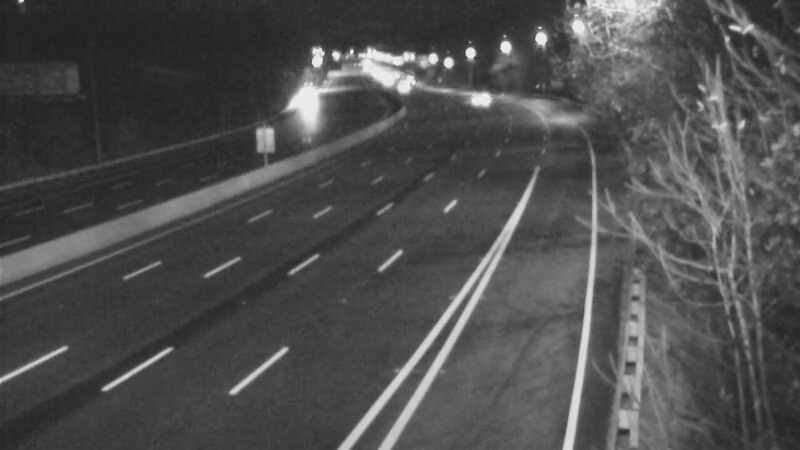vehicle: (454, 72, 504, 122)
